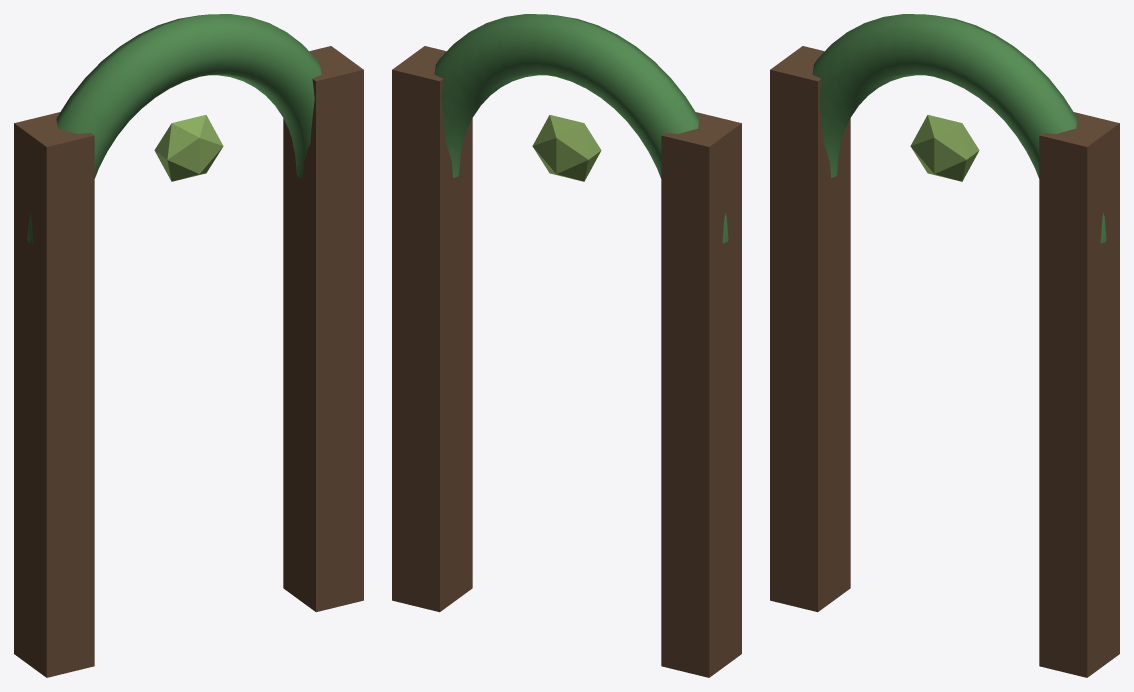
Rendered from broken_gate_arch.glb.
The picture shows the model from 3 angles, left to right: view 1: azimuth 30°, elevation 25°; view 2: azimuth 150°, elevation 25°; view 3: azimuth 330°, elevation 25°; orthographic projection.
Parts seen in each view (by area): view 1: pillar_-1, pillar_1, arch, keystone; view 2: pillar_-1, pillar_1, arch, keystone; view 3: pillar_1, pillar_-1, arch, keystone.
Boxes of the visible parts, left/top/right/bottom form: pillar_-1: left=14, top=112, right=94, bottom=677; pillar_1: left=283, top=46, right=363, bottom=612; arch: left=27, top=14, right=321, bottom=243; keystone: left=154, top=115, right=223, bottom=181; pillar_-1: left=661, top=112, right=741, bottom=677; pillar_1: left=392, top=46, right=472, bottom=612; arch: left=434, top=14, right=728, bottom=243; keystone: left=532, top=115, right=601, bottom=181; pillar_1: left=1039, top=112, right=1119, bottom=677; pillar_-1: left=770, top=46, right=850, bottom=612; arch: left=812, top=14, right=1106, bottom=243; keystone: left=910, top=115, right=979, bottom=181.
Size of what is drawn, in the model's own units: 3.7 by 6.71 by 0.65.
